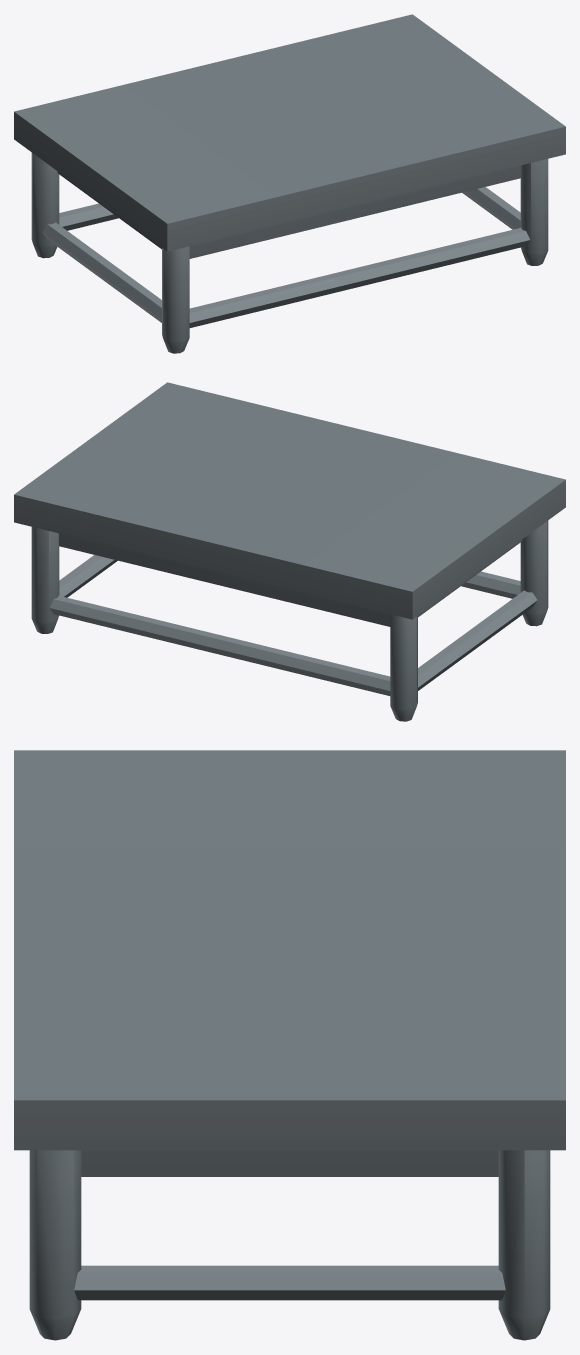
The model's file is kitchentable_A_large.glb.
3 views of the same model, one above another, from view 1: azimuth 30°, elevation 25°; view 2: azimuth 150°, elevation 25°; view 3: azimuth 270°, elevation 25° (orthographic). The views are drawn at different scales.
Visible parts, largest first — view 1: kitchentable_A_large; view 2: kitchentable_A_large; view 3: kitchentable_A_large.
Part boxes in pixels (x1=…): kitchentable_A_large: x1=14, y1=14, x2=565, y2=353; kitchentable_A_large: x1=14, y1=382, x2=565, y2=721; kitchentable_A_large: x1=14, y1=750, x2=565, y2=1340.
Bounding box in the file's own units: 3 × 1 × 2.
1 material, 1 textured.
